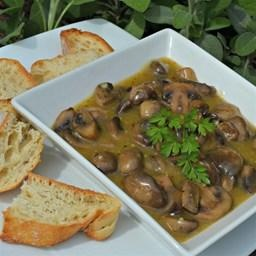background: (20, 24, 102, 94), (0, 10, 49, 99)
